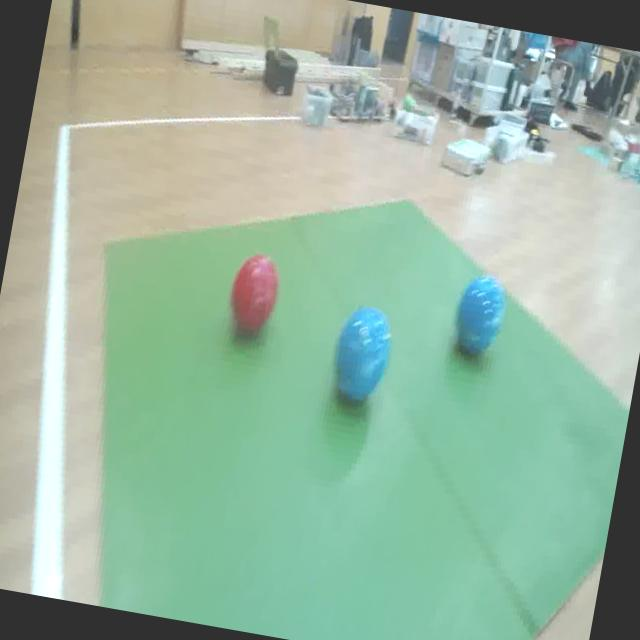blue_ball: (326, 296, 400, 409), (449, 269, 510, 365)
red_ball: (224, 250, 284, 348)
